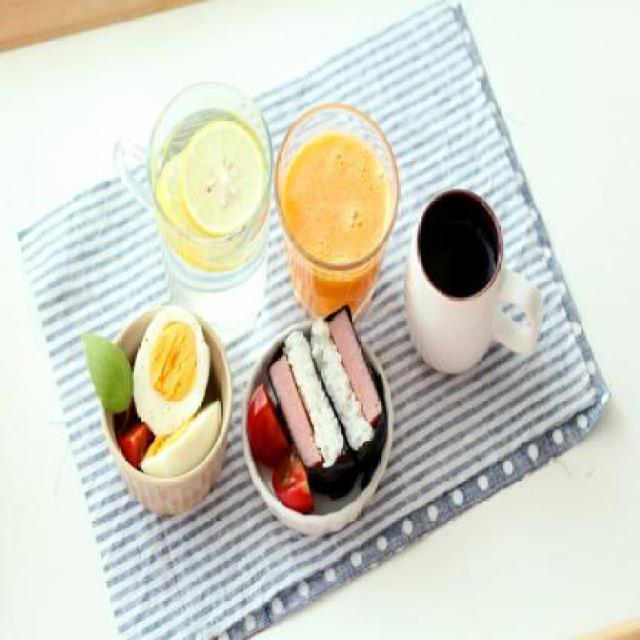Lemon: (173, 119, 270, 244)
